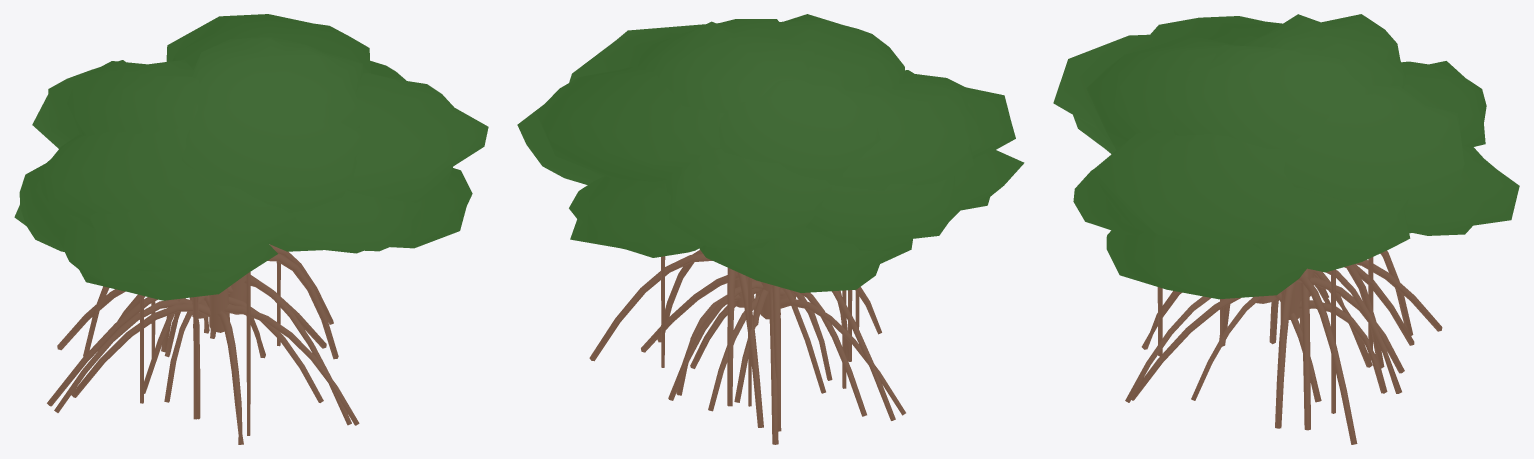
Rendered from Blender_Mangrove_1.glb.
3 renders of one model, left to right at view 1: azimuth 30°, elevation 25°; view 2: azimuth 150°, elevation 25°; view 3: azimuth 270°, elevation 25°, orthographic. The views are drawn at different scales.
Parts seen in each view (by area): view 1: Blender_Mangrove_1; view 2: Blender_Mangrove_1; view 3: Blender_Mangrove_1.
Boxes of the visible parts, x1,y1,x2,y2 form: Blender_Mangrove_1: (14, 14, 488, 444); Blender_Mangrove_1: (517, 14, 1024, 444); Blender_Mangrove_1: (1053, 14, 1519, 444).
Bounding box in the file's own units: 8.04 × 5.97 × 7.58.
